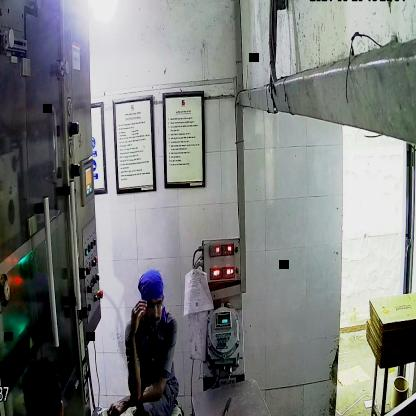goggles: (140, 295, 166, 320)
